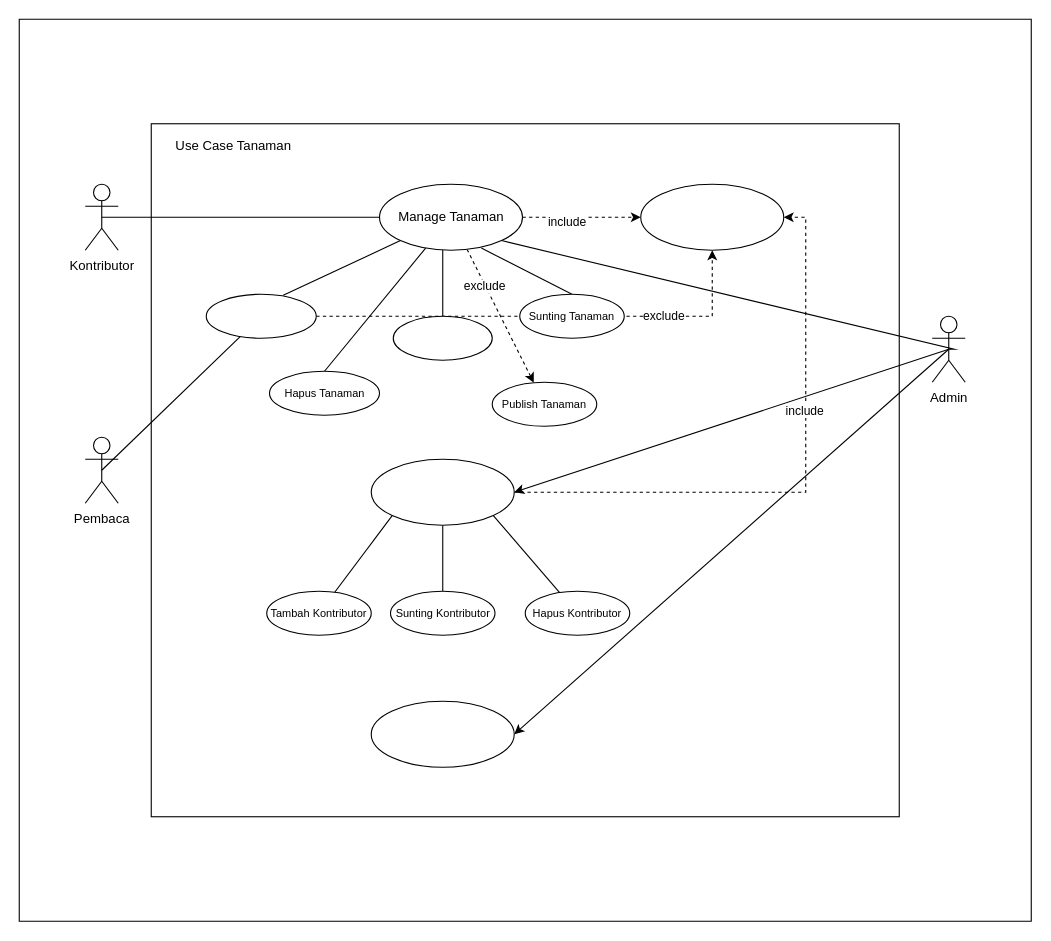
Image size: 1051x941. Some labels were removed from this diagram. The centre of each missing label's shape, as x and y in pixels:
Lihat Statistik: the point at 442,733
Lihat Tanaman: the point at 260,315
Login: the point at 712,216
Manage Kontributor: the point at 442,491
Tambah Tanaman: the point at 442,337
